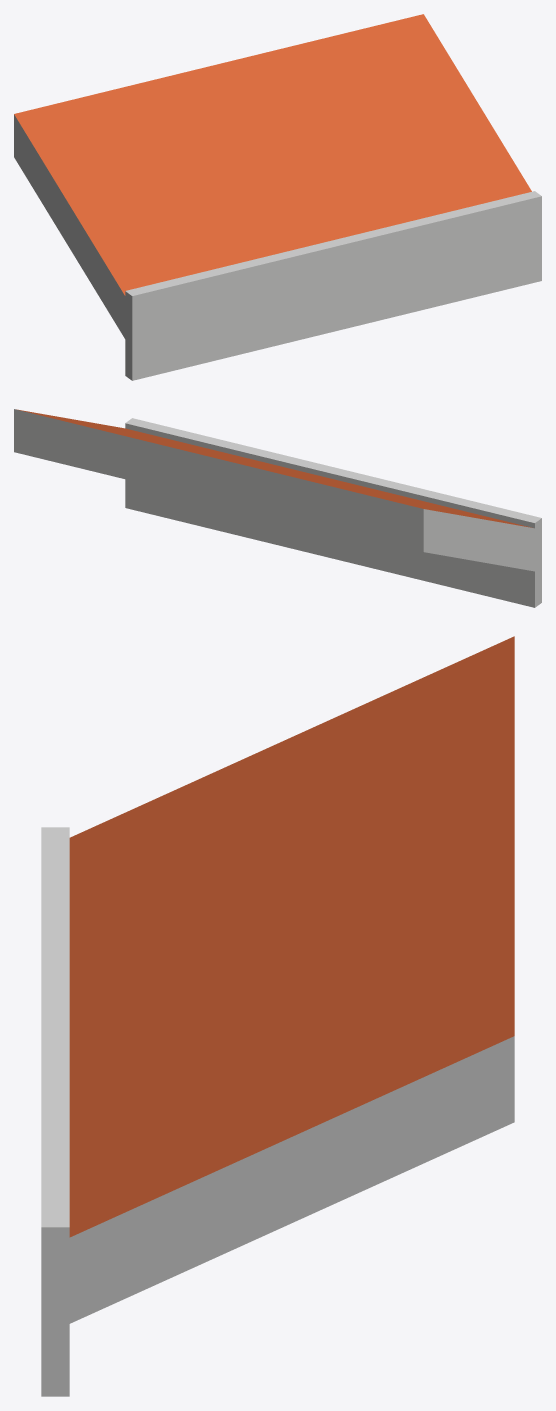
Rendered from telhado_beiral_i50_1m.glb.
The picture shows the model from 3 angles, top to bottom: view 1: azimuth 30°, elevation 25°; view 2: azimuth 150°, elevation 25°; view 3: azimuth 270°, elevation 25°; orthographic projection. The views are drawn at different scales.
Visible parts, largest first — view 1: telhado_beiral_i50_1m; view 2: telhado_beiral_i50_1m; view 3: telhado_beiral_i50_1m.
Boxes of the visible parts, x1=… form: telhado_beiral_i50_1m: x1=14, y1=14, x2=541, y2=380; telhado_beiral_i50_1m: x1=14, y1=409, x2=541, y2=607; telhado_beiral_i50_1m: x1=41, y1=636, x2=514, y2=1396.
Bounding box in the file's own units: 1 × 0.4206 × 0.5.
